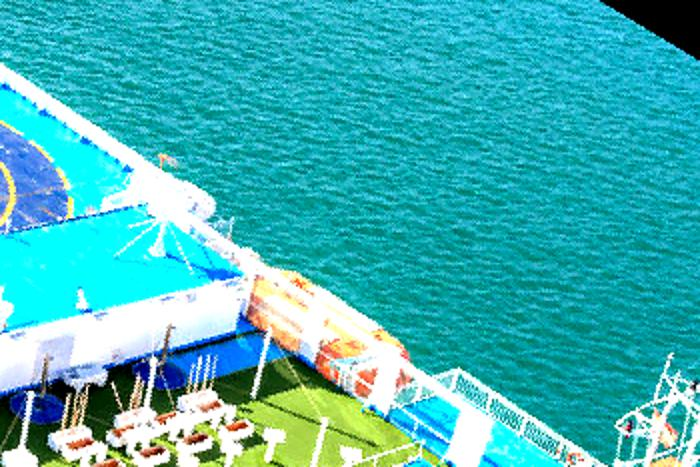Apron: (1, 122, 72, 237)
